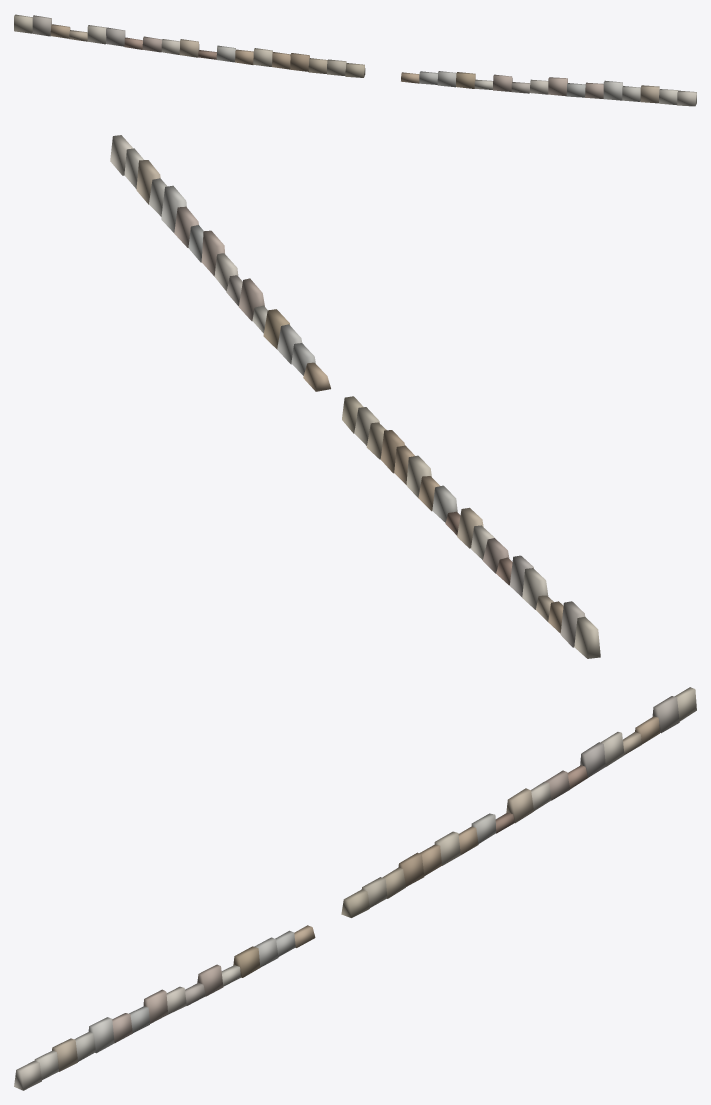
The model's file is farm_-33_-26_far.glb.
3 renders of one model, top to bottom at view 1: azimuth 30°, elevation 25°; view 2: azimuth 150°, elevation 25°; view 3: azimuth 270°, elevation 25°, orthographic. The views are drawn at different scales.
Parts seen in each view (by area): view 1: geometry_0; view 2: geometry_0; view 3: geometry_0.
Part boxes in pixels (x1,y1,x2,y2): geometry_0: (14, 14, 696, 106); geometry_0: (110, 135, 600, 658); geometry_0: (14, 687, 696, 1090).
Bounding box in the file's own units: 45.77 × 3.79 × 38.39.
